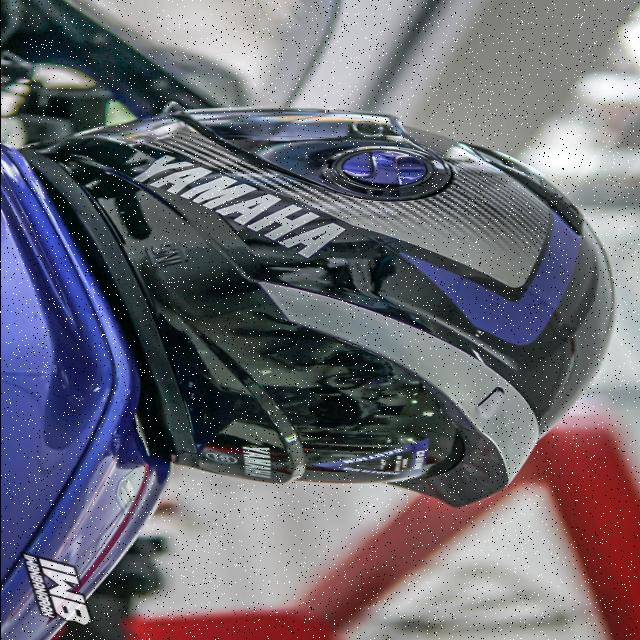Helmet: (0, 38, 616, 640)
